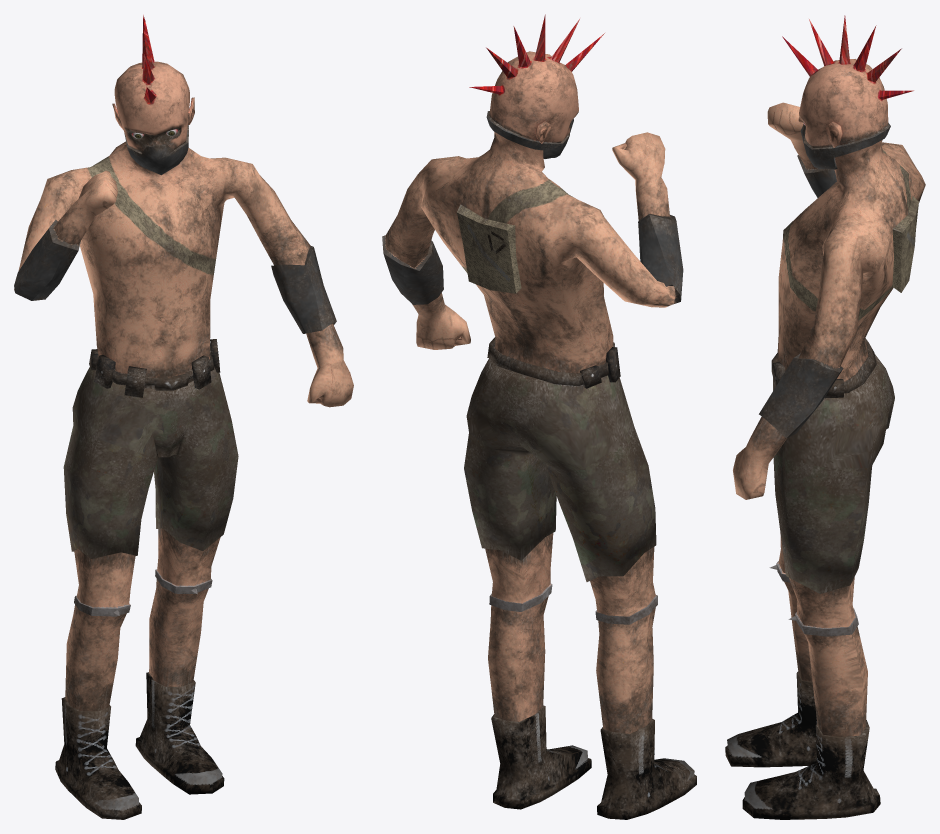
File: Anim_perder_1_npc2.0051.obj
The picture shows the model from 3 angles, left to right: view 1: azimuth 30°, elevation 25°; view 2: azimuth 150°, elevation 25°; view 3: azimuth 270°, elevation 25°; orthographic projection. The views are drawn at different scales.
Parts seen in each view (by area): view 1: polySurface1; view 2: polySurface1; view 3: polySurface1.
Boxes of the visible parts, box(x1,y1,x2,y2) form: polySurface1: box(14, 15, 353, 819); polySurface1: box(382, 14, 696, 819); polySurface1: box(725, 15, 925, 819).
Bounding box in the file's own units: 4.17 × 10.1 × 2.34.
